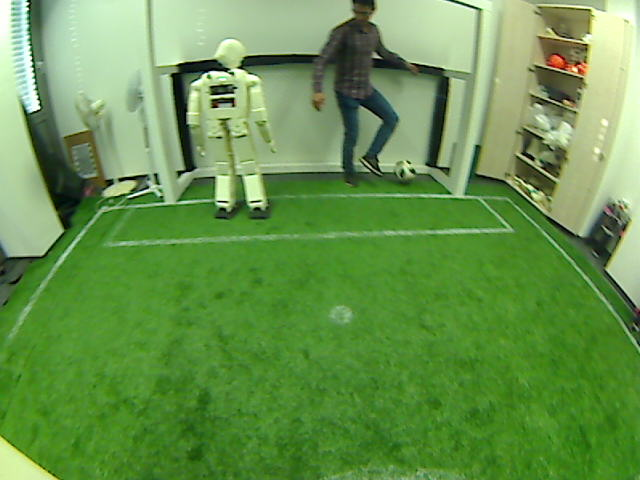ball: (393, 157, 415, 181)
goalpost: (451, 157, 470, 196), (161, 170, 178, 204)
robot: (204, 145, 270, 220)
